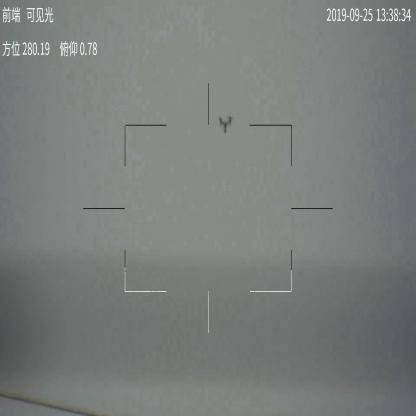uav: (218, 113, 232, 135)
